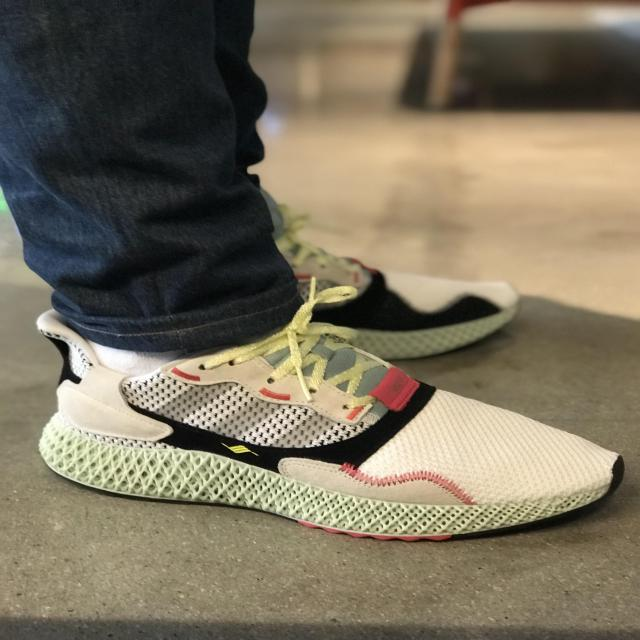shoe: (32, 278, 629, 546), (263, 195, 525, 359)
